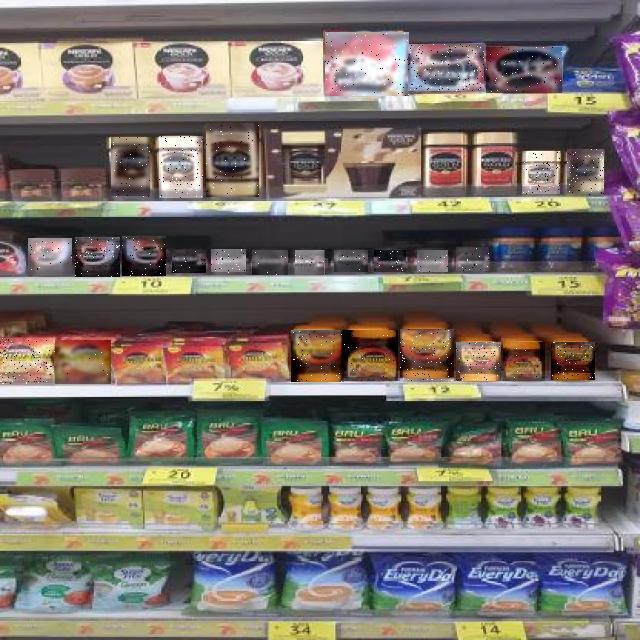Coffee: (325, 32, 409, 96), (206, 123, 259, 197), (408, 44, 484, 91), (486, 47, 562, 93), (400, 330, 454, 382), (292, 330, 346, 382), (344, 330, 398, 381), (159, 136, 203, 198), (0, 338, 55, 384), (55, 341, 111, 385), (112, 138, 152, 198), (75, 237, 120, 277), (123, 236, 167, 276), (456, 342, 501, 381), (504, 342, 548, 381), (567, 150, 604, 196), (28, 238, 72, 276), (551, 342, 595, 380), (522, 151, 560, 194), (252, 250, 288, 275), (211, 250, 246, 274), (296, 250, 328, 275), (456, 247, 489, 271), (172, 250, 206, 273), (334, 250, 368, 272), (374, 250, 406, 272), (417, 250, 448, 272)
